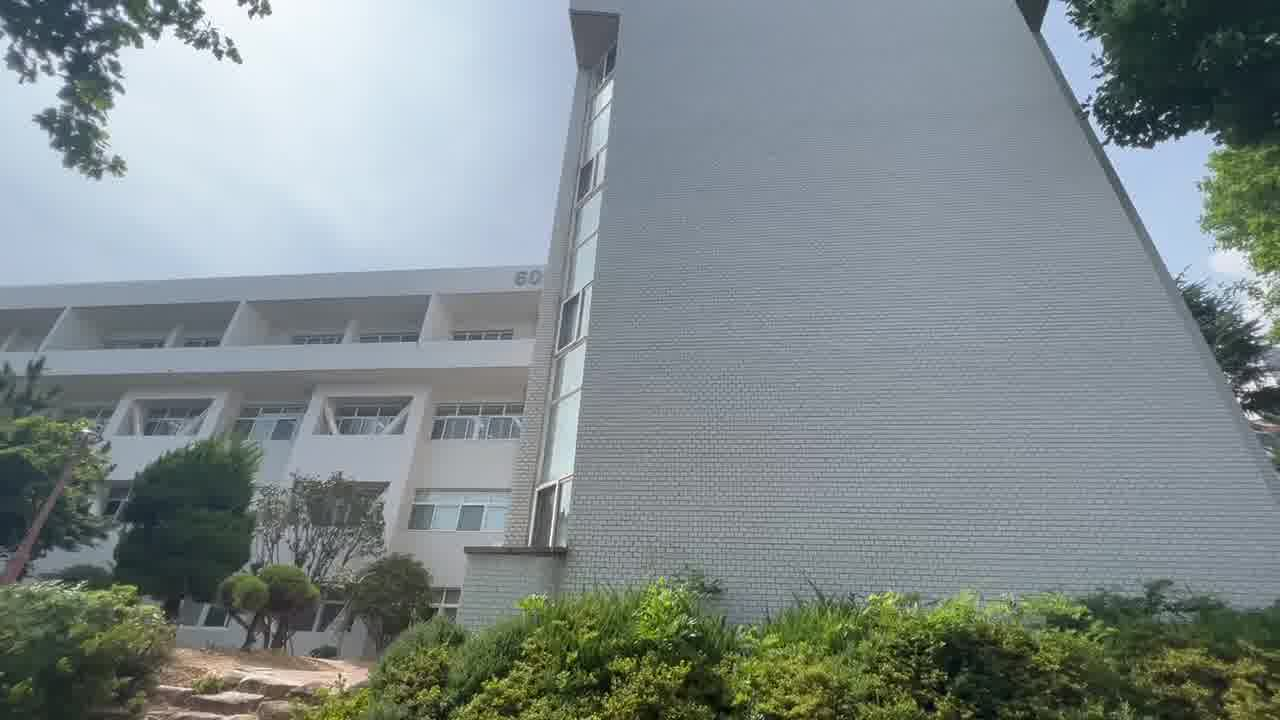medium: (314, 0, 1069, 601)
